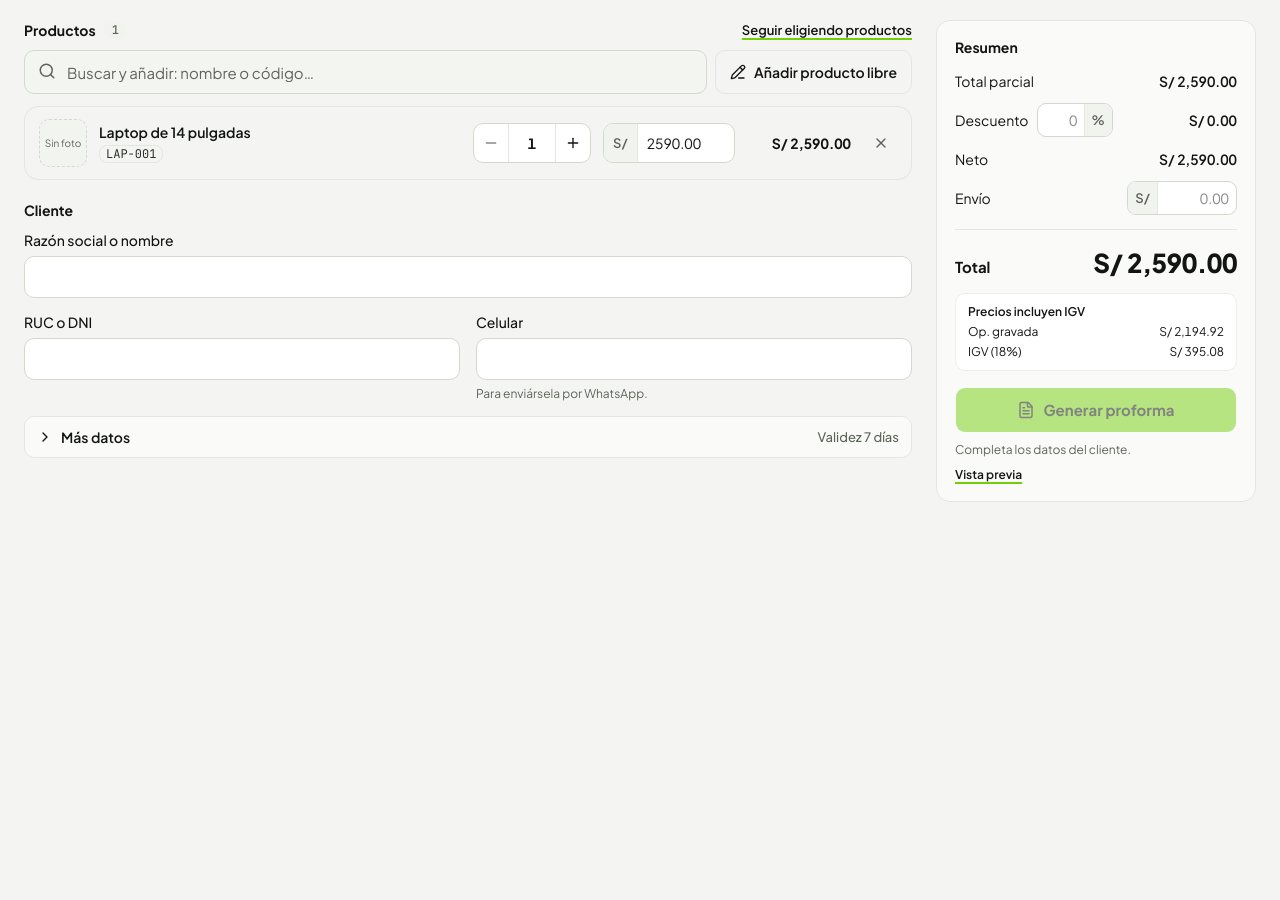
Scenario: ProformaEditor › los montos, porcentajes y cantidades no admiten letras
Replace the text in the field named "Precio unitario de Laptop de 14 pulgadas" with "a2b4c0,5d": x=686, y=143 [638,124,734,162]
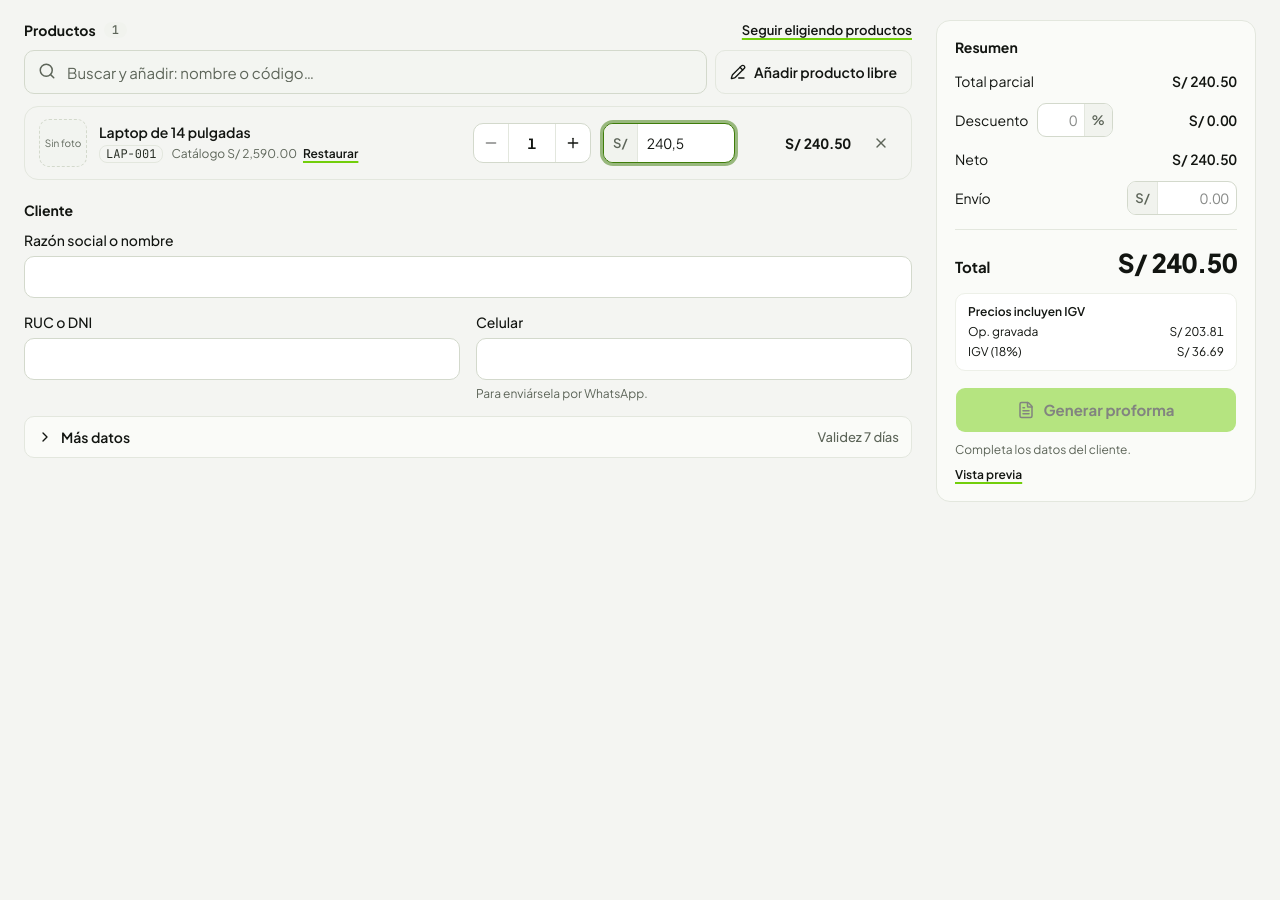
In the field labelled "Descuento": x=1060, y=120 [1038,104,1084,136], type "x1y0"
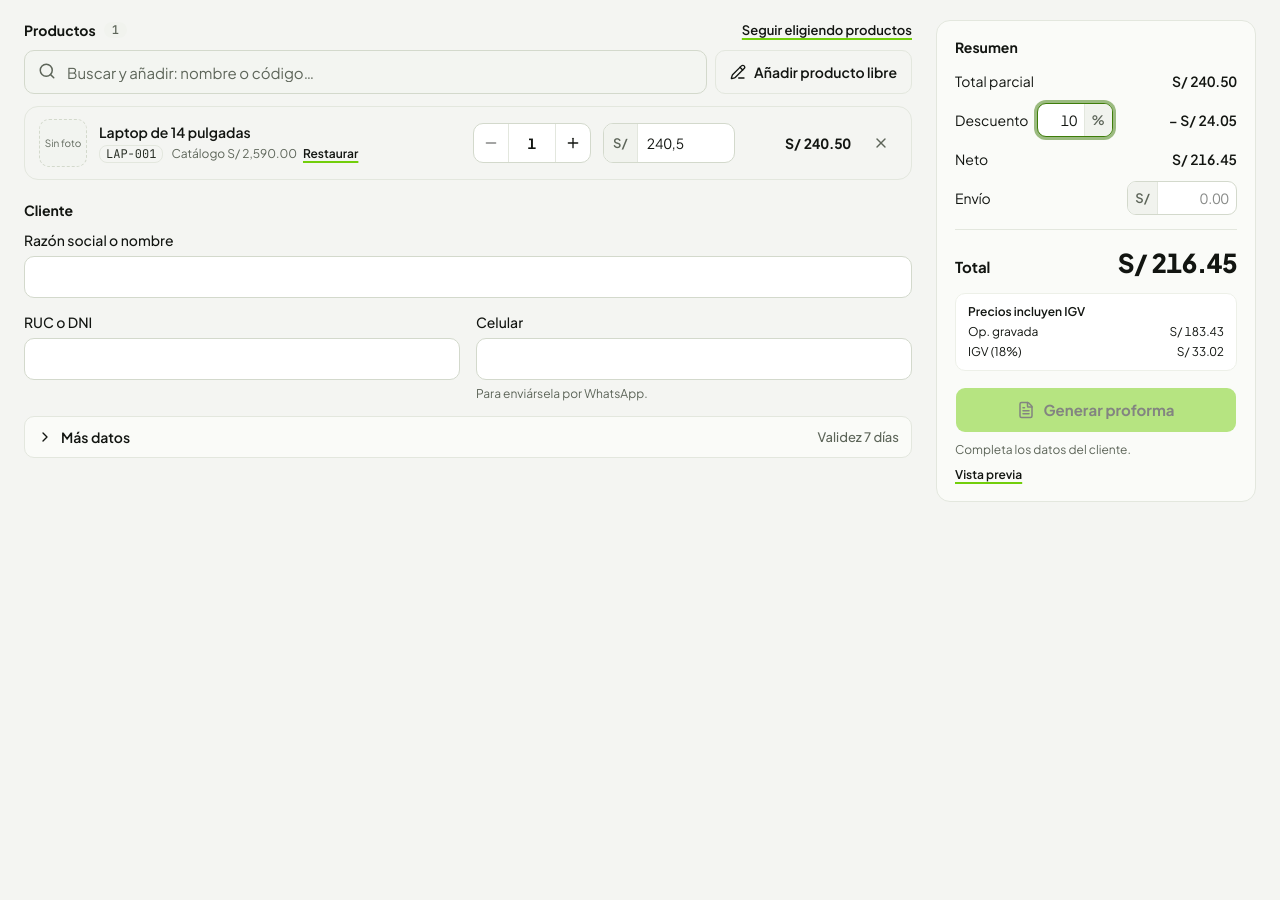
Check: the field labelled "Descuento" holds "10", box [1038,104,1084,136]
In the field labelled "Envío": x=1197, y=198 [1158,182,1236,214], type "S/ 2o"
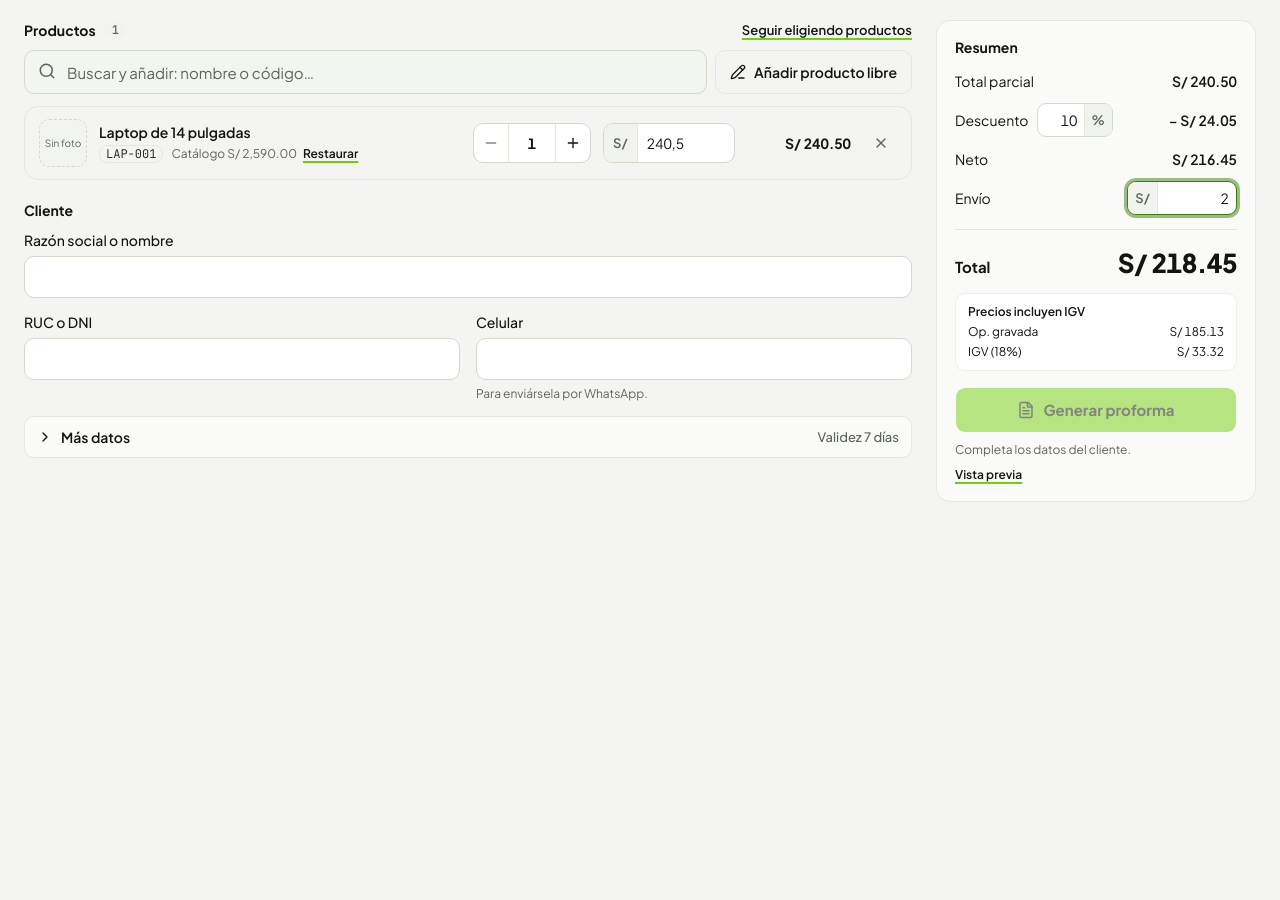
Check: the field labelled "Envío" holds "2", box [1158,182,1236,214]
Click the button "Añadir producto libre": x=814, y=72 [715,50,912,94]
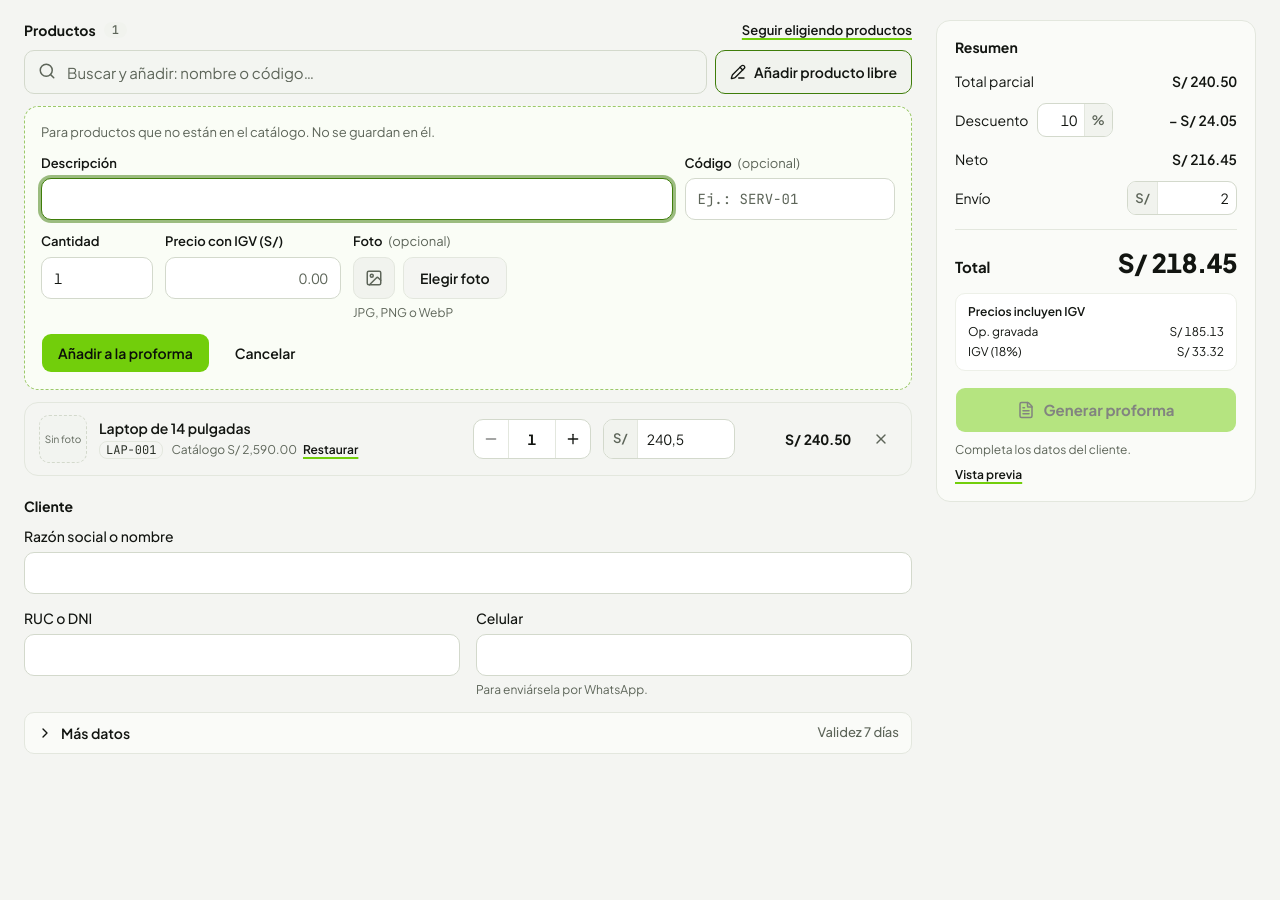
Replace the text in the field labelled "Cantidad" with "sa3sd": x=97, y=278 [41,257,153,299]
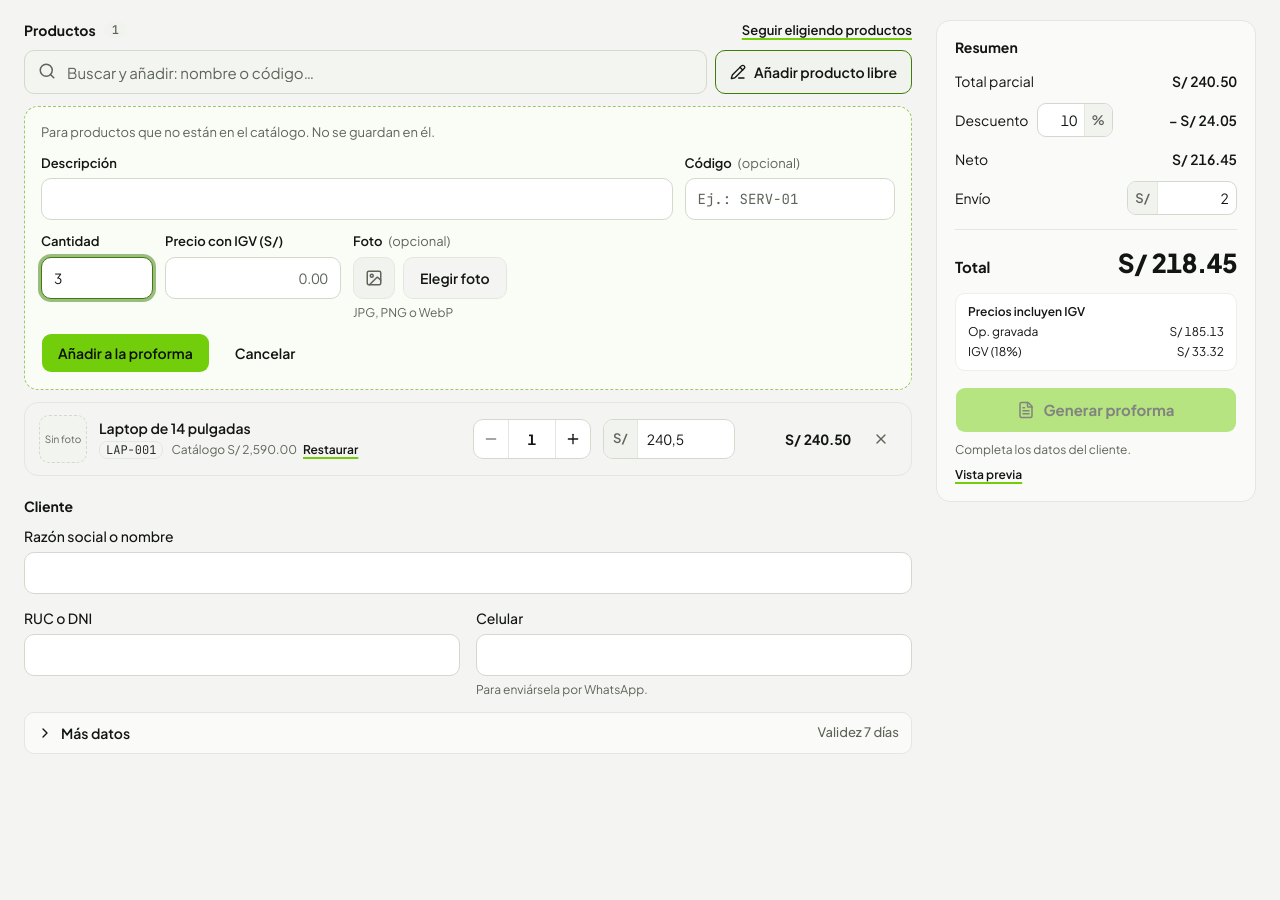
Check: the field labelled "Cantidad" holds "3", box [41,257,153,299]
In the field labelled "Precio con IGV (S/)": x=253, y=278 [165,257,341,299], type "asd35.5asd"
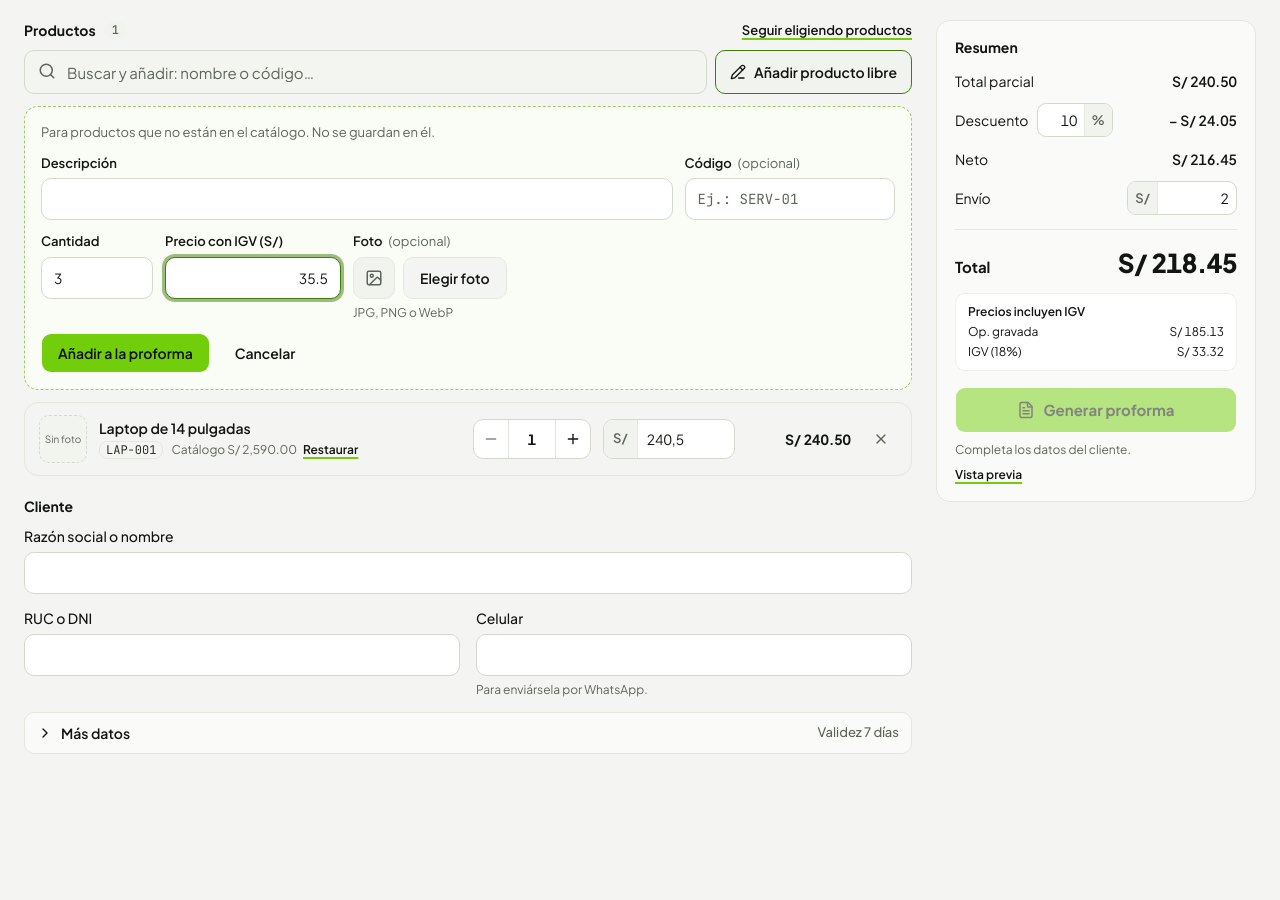
Check: the field labelled "Precio con IGV (S/)" holds "35.5", box [165,257,341,299]
